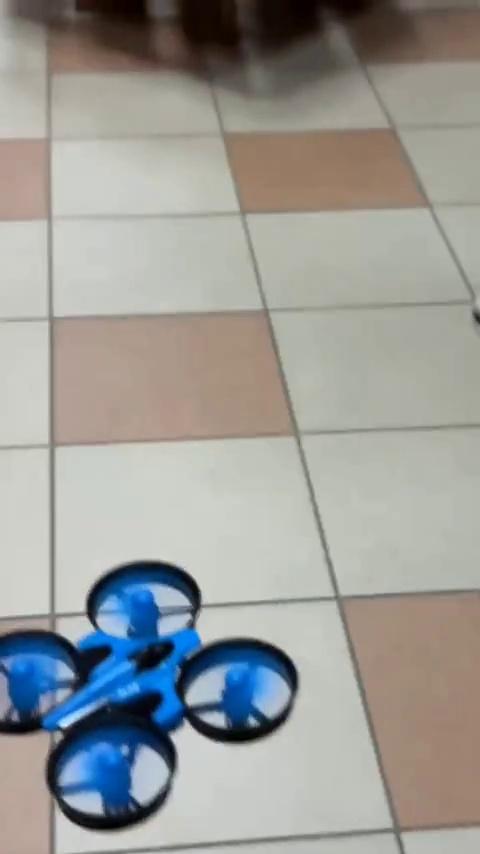drone: (8, 560, 295, 794)
